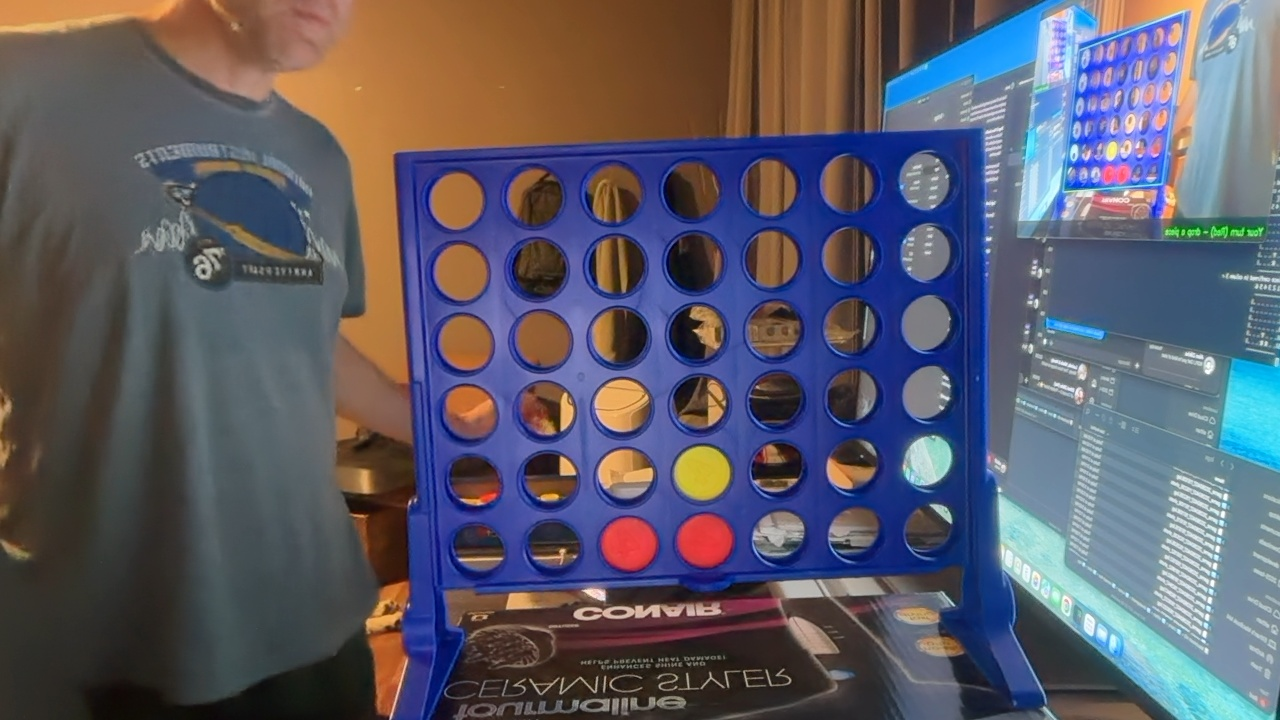red piece: (600, 517, 657, 572), (676, 514, 734, 568)
yellow piece: (673, 445, 731, 501)
